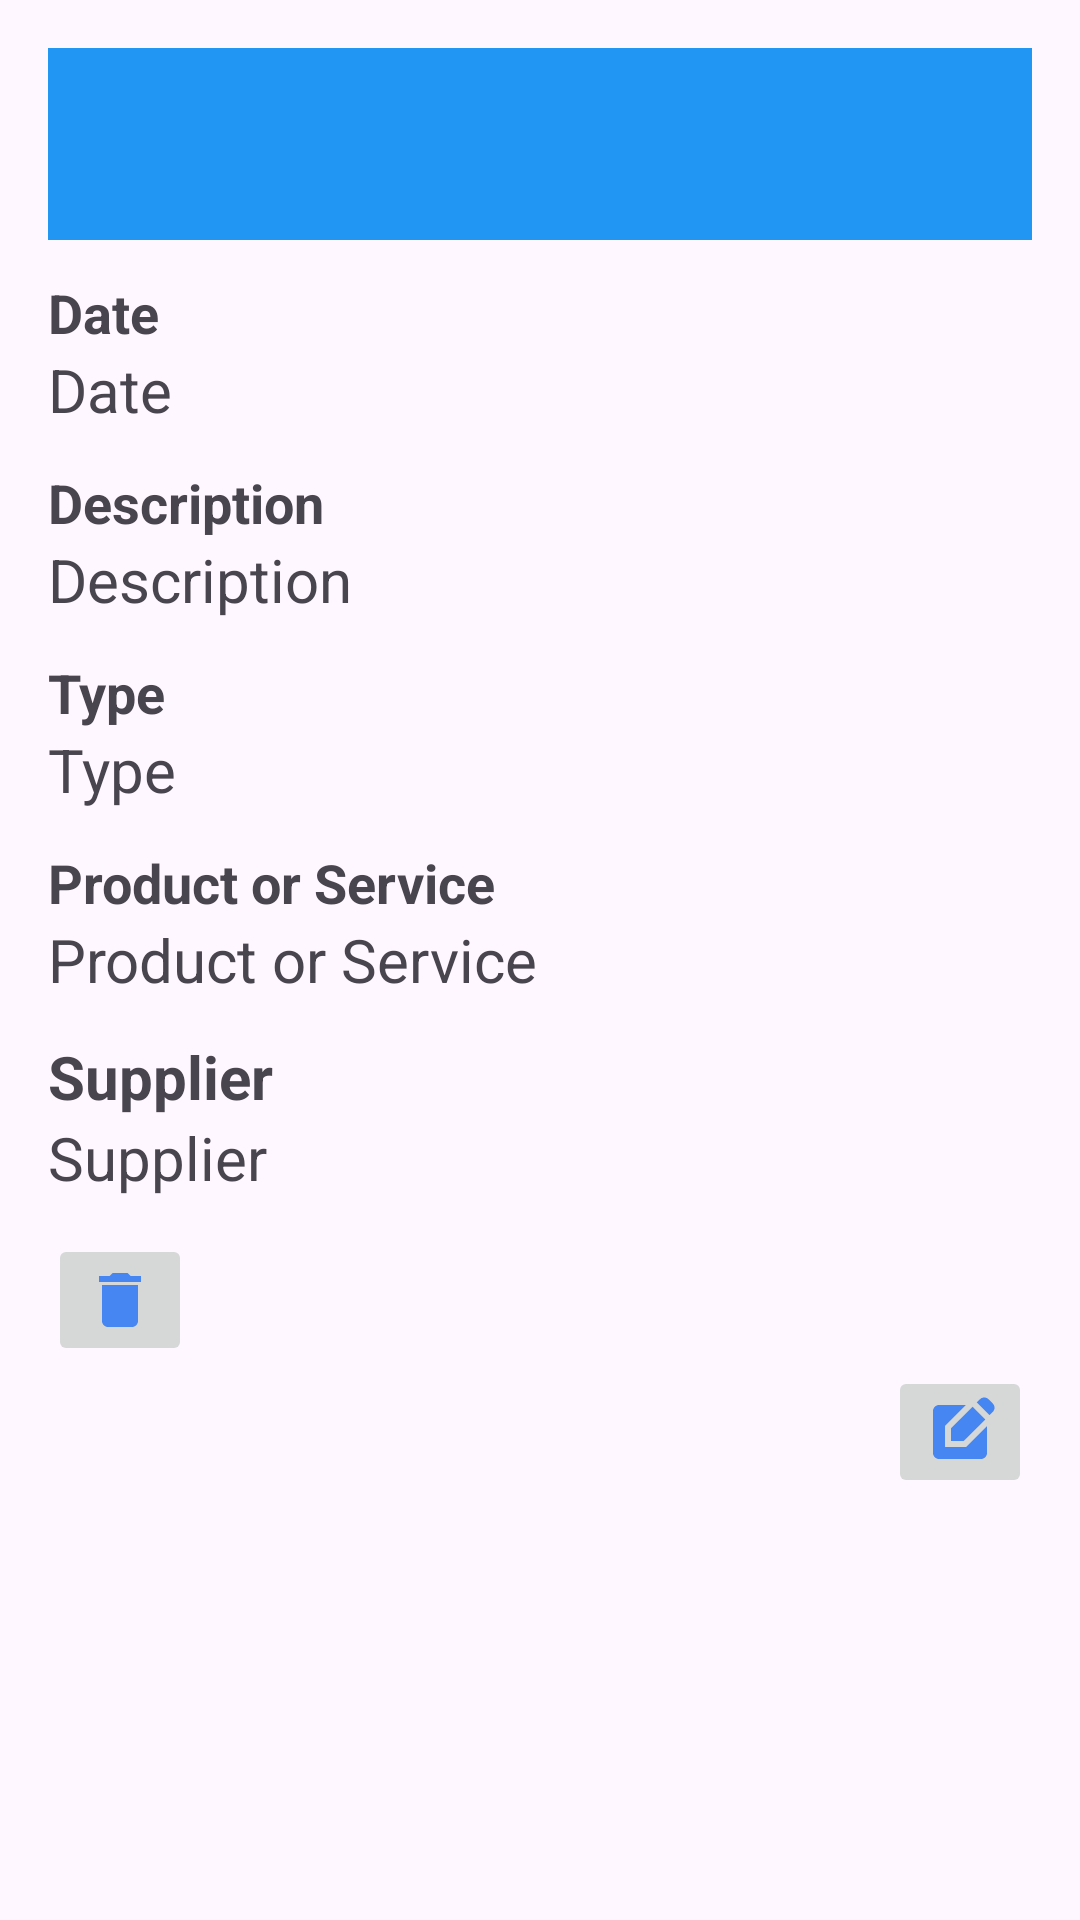

Named icons in this screenshot (1080 x 1920) and their centers, [x,y]:
Delete: [120,1300]
Edit: [960,1432]
